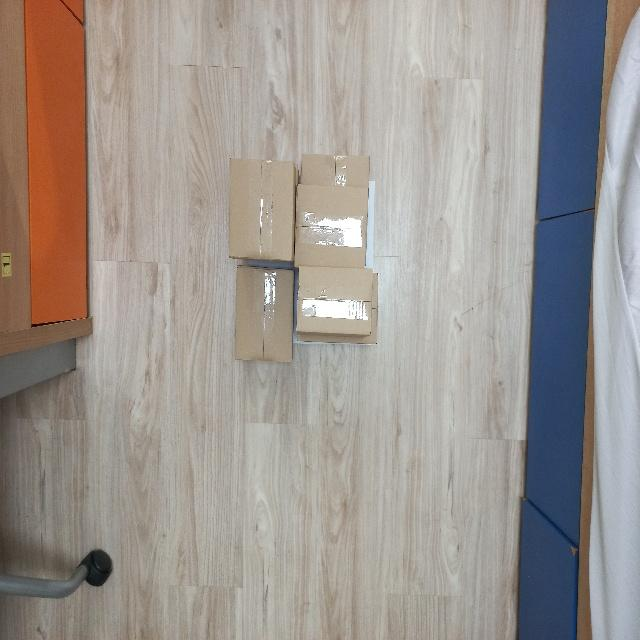box: (224, 155, 296, 265), (292, 182, 372, 269), (232, 264, 296, 364), (293, 266, 373, 338)
